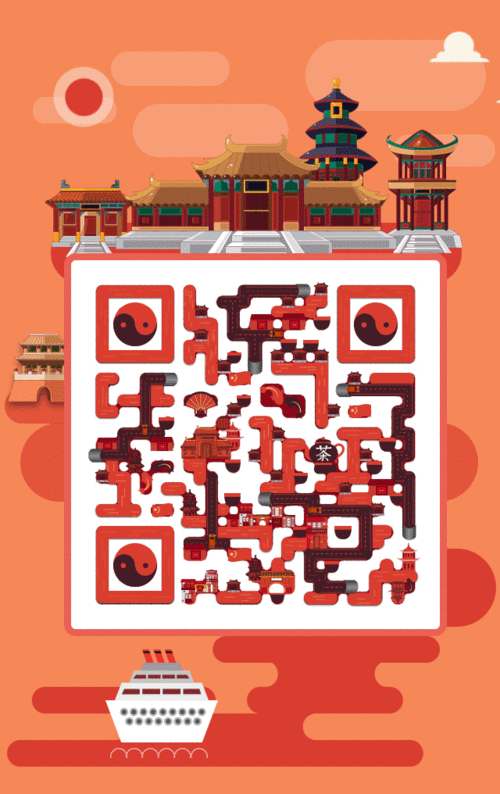QRCode: (92, 273, 426, 612)
